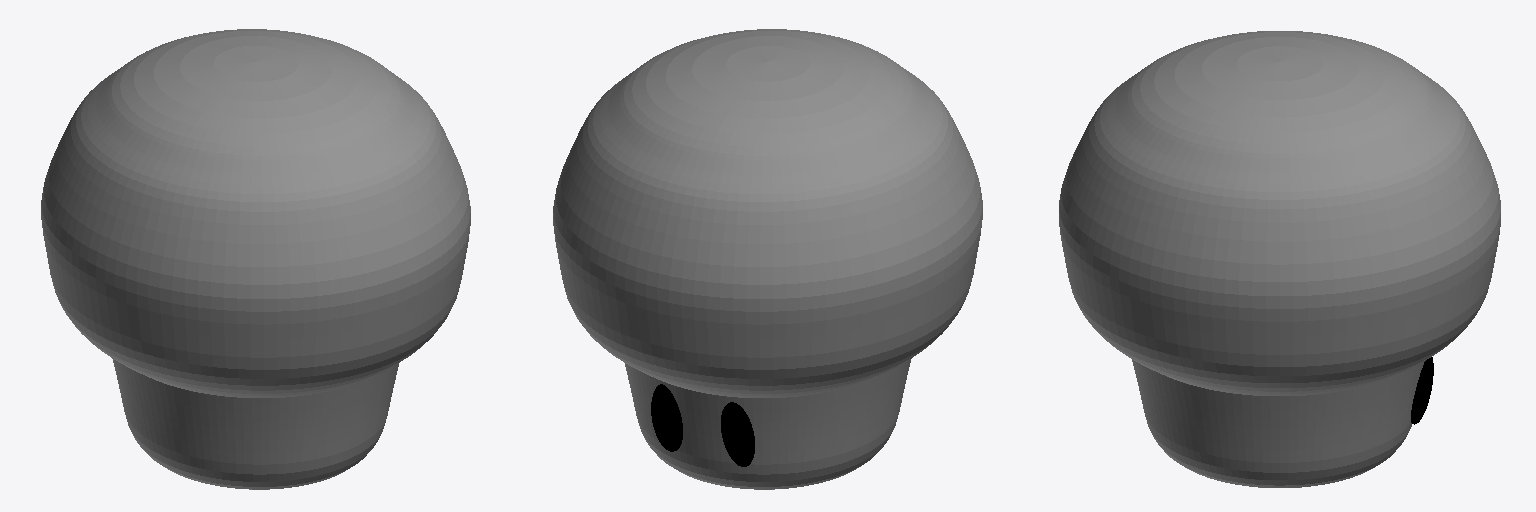
File: mushroom.obj
3 views of the same model, side by side, from view 1: azimuth 30°, elevation 25°; view 2: azimuth 150°, elevation 25°; view 3: azimuth 270°, elevation 25° (orthographic).
Visible parts, largest first — view 1: Line01; view 2: Line01; view 3: Line01.
Boxes of the visible parts, x1=… form: Line01: x1=41, y1=29, x2=470, y2=489; Line01: x1=553, y1=29, x2=982, y2=489; Line01: x1=1059, y1=31, x2=1500, y2=487.
Bounding box in the file's own units: 30.86 × 31.13 × 32.12.